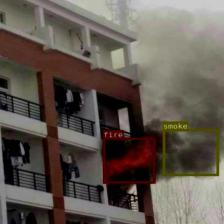fire: (102, 137, 155, 183)
smoke: (162, 129, 218, 175)
